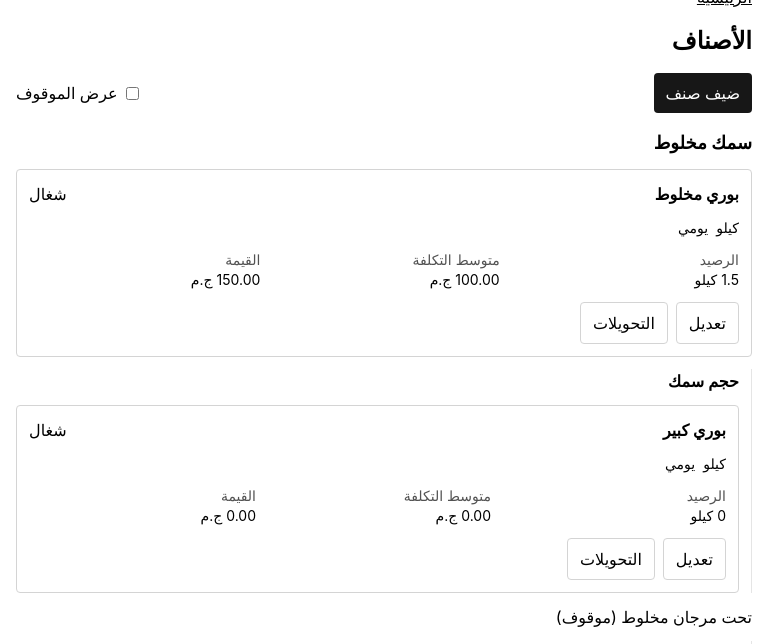
it: ItemsPage › shows a duplicate-name error from the server
Expected: the heading "بوري مخلوط" is shown, [655, 182, 739, 206]
Click the button "ضيف صنف": (703, 93) [654, 73, 752, 113]
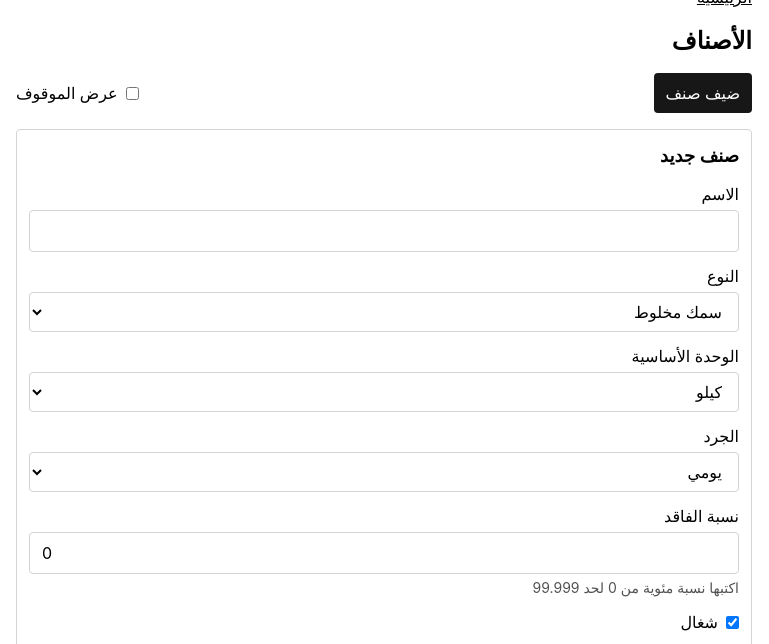
In the field labelled "الاسم": (384, 231) [29, 210, 739, 252], type "بوري مخلوط"
(page scrolled)
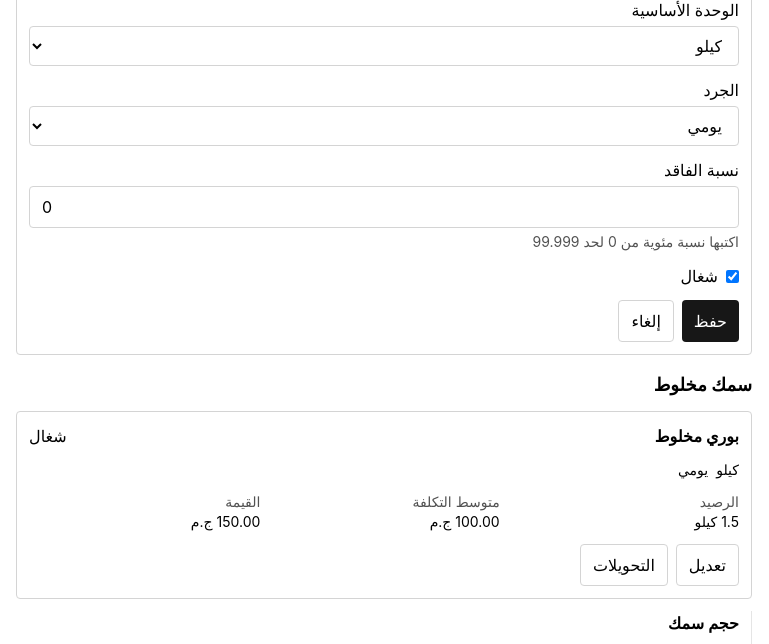
Click the button "حفظ": (710, 321) [682, 300, 739, 342]
(page scrolled)
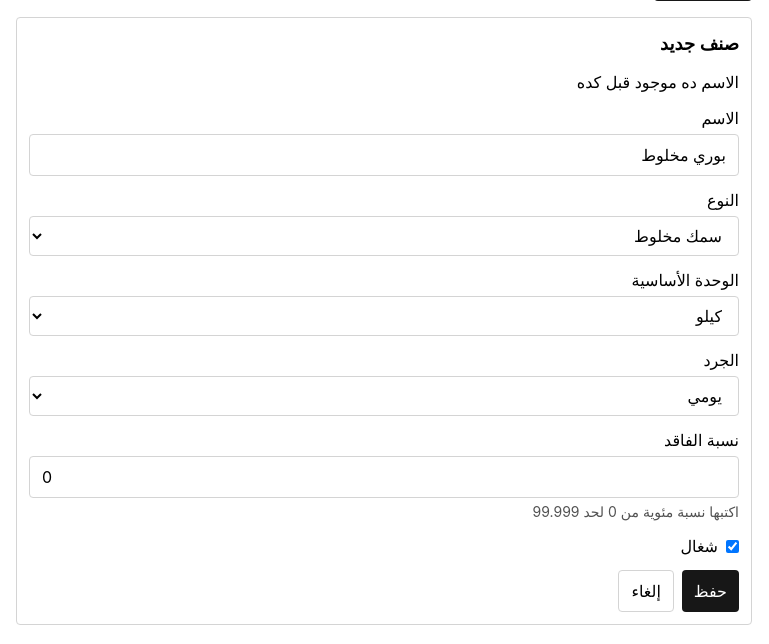
Expected: the form "صنف جديد" is shown
Expected: the message reads "الاسم ده موجود قبل كده", [577, 72, 739, 92]
